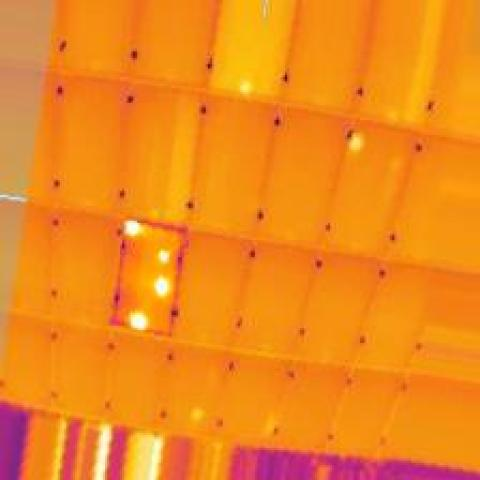fault: (148, 270, 176, 304), (345, 126, 369, 163), (125, 304, 154, 334), (118, 216, 150, 240), (232, 73, 257, 103), (186, 403, 210, 433), (154, 244, 174, 268)
